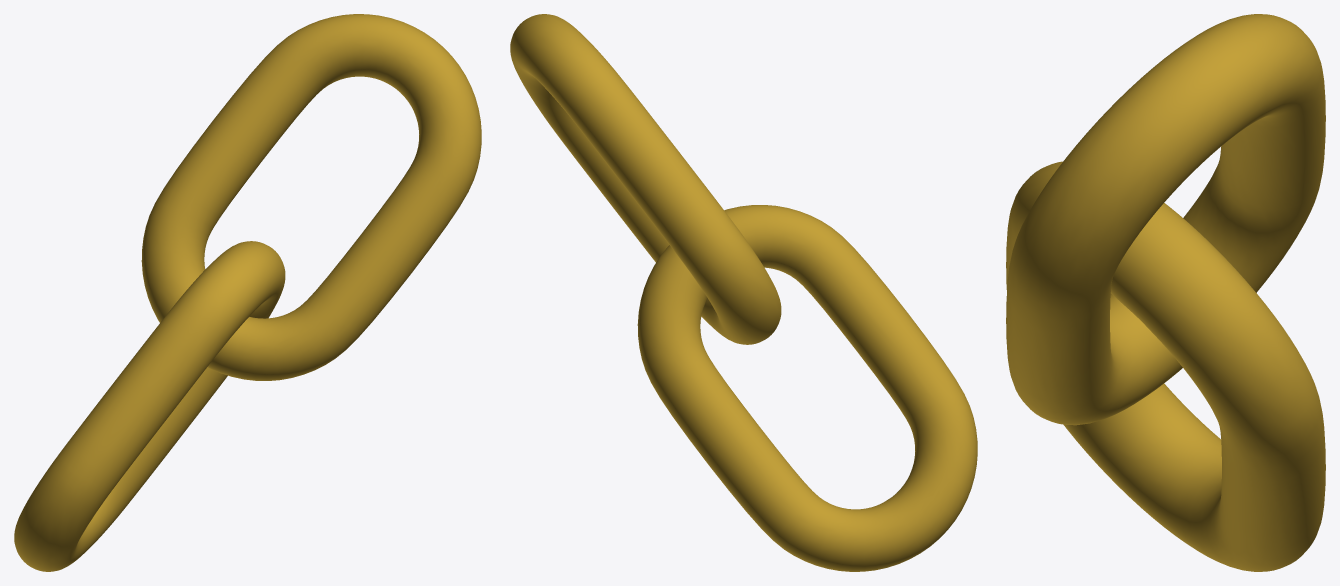
3 views of the same model, side by side, from view 1: azimuth 30°, elevation 25°; view 2: azimuth 150°, elevation 25°; view 3: azimuth 270°, elevation 25° (orthographic). The views are drawn at different scales.
Visible parts, largest first — view 1: Plane.001; view 2: Plane.001; view 3: Plane.001.
Boxes of the visible parts, bbox=[...] form: Plane.001: bbox=[14, 14, 481, 571]; Plane.001: bbox=[510, 14, 977, 571]; Plane.001: bbox=[1006, 14, 1325, 571].
Bounding box in the file's own units: 1.74 × 1.74 × 0.663.
